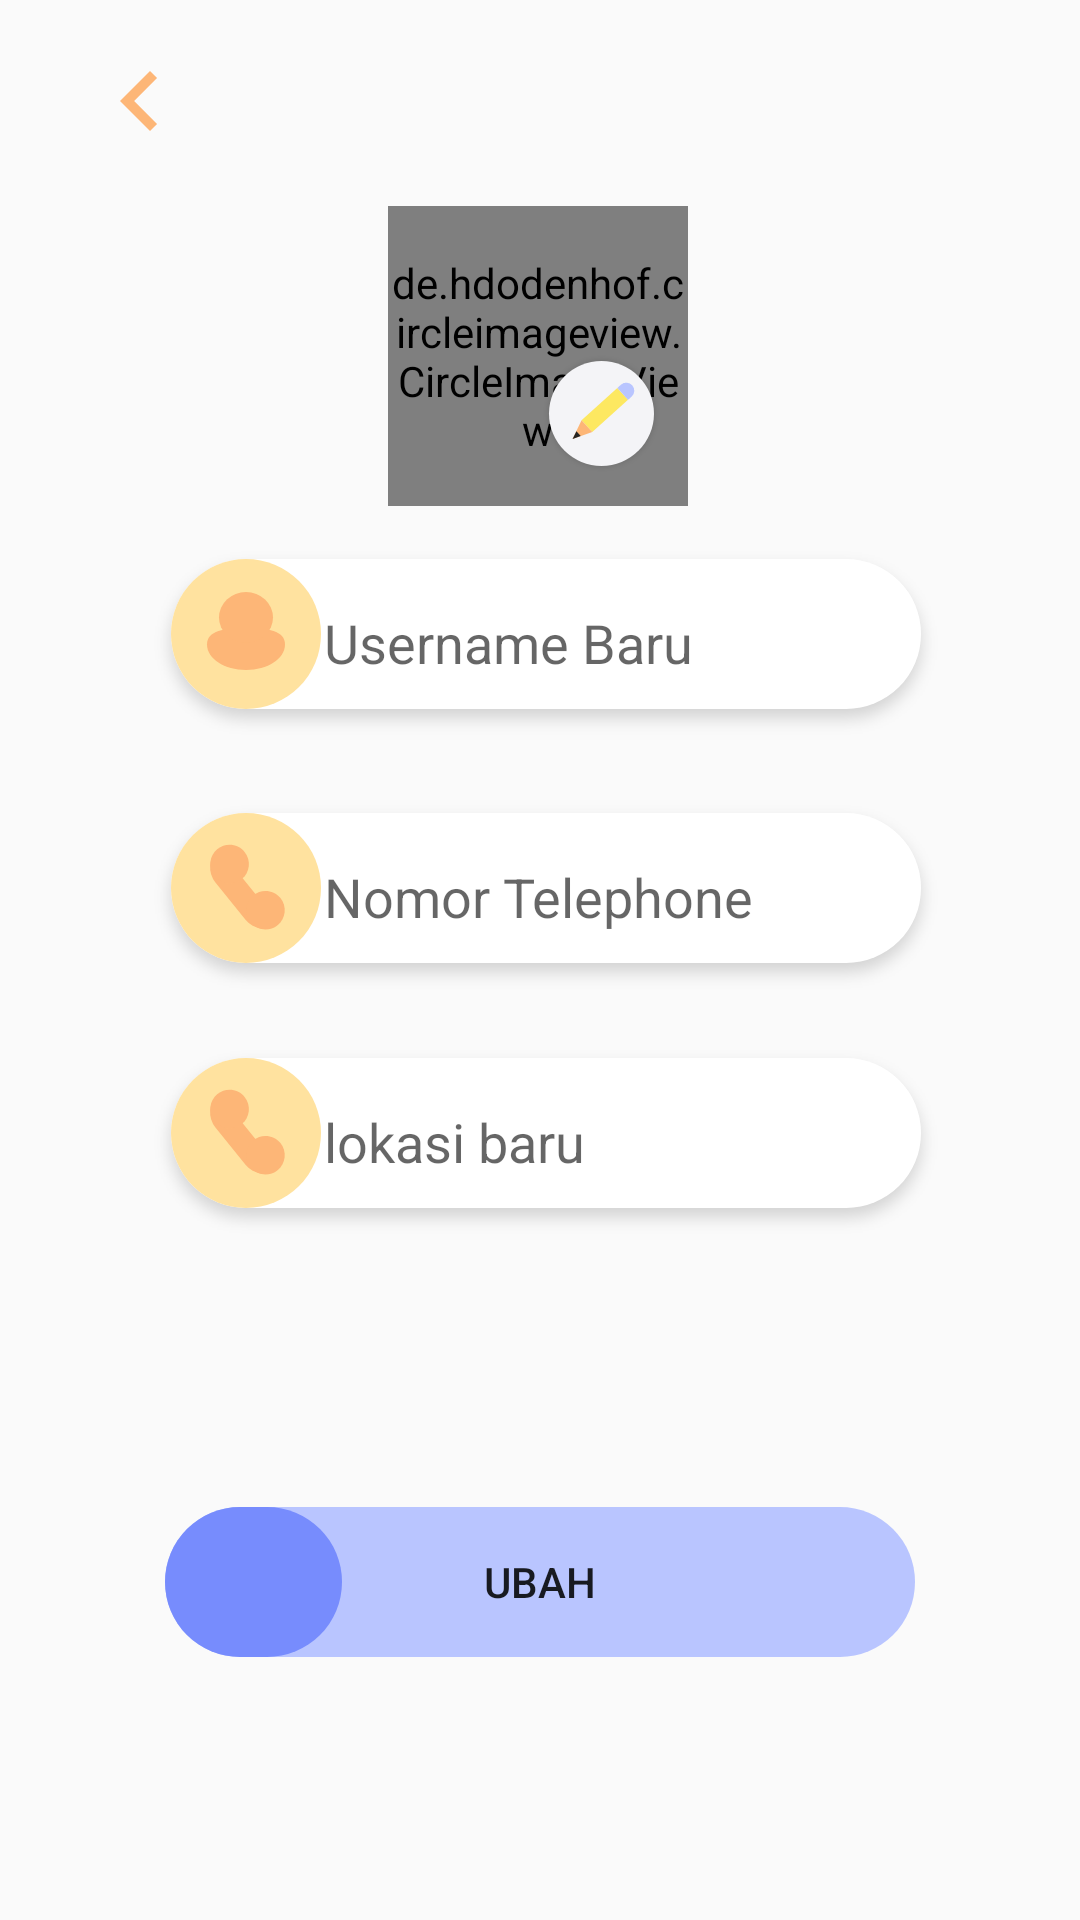

Where icons sit on this 1080x1920 app screen, as (x1, y1, x2, y2):
back: (120, 71, 157, 131)
ganti profil: (540, 352, 663, 466)
